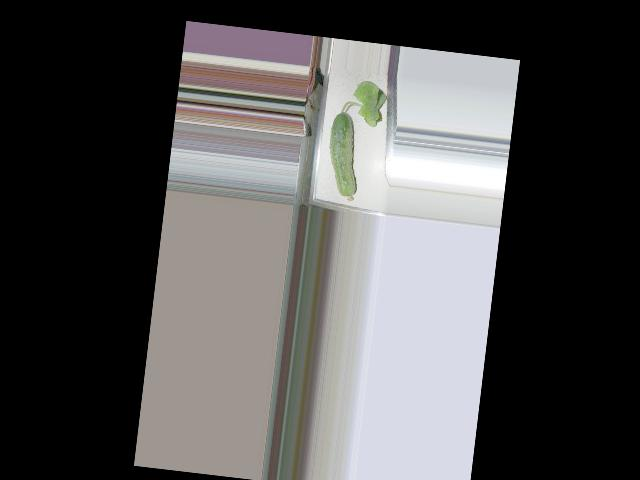cucumber: (322, 110, 365, 202)
